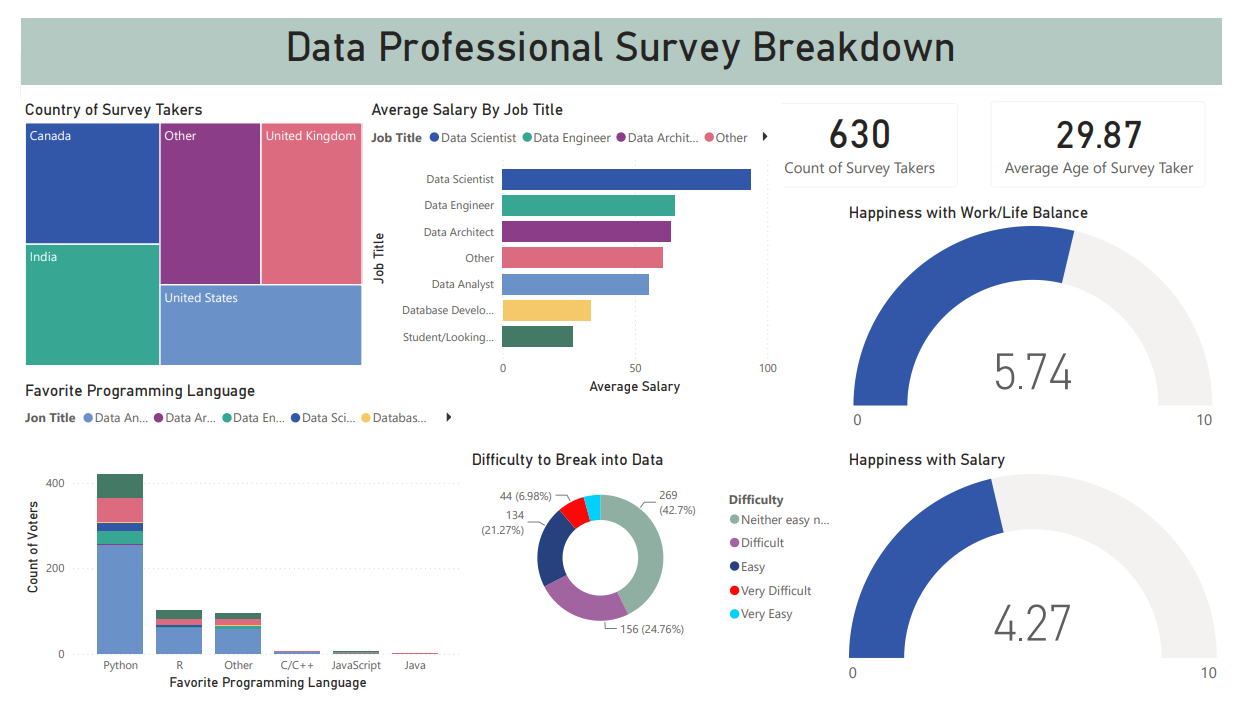

The dashboard page shown, as its layout file describes it:
{"tool":"powerbi","page":{"name":"Page 1","canvas":[1280,720],"ordinal":0},"visuals":[{"type":"textbox","box":[0,0,1280.3,71.4],"z":0},{"type":"cardVisual","fields":{"Data":["Count(Data Professional Survey.Unique ID)"]},"box":[771.2,72.7,245.6,124.9],"z":1},{"type":"cardVisual","fields":{"Data":["Avg(Data Professional Survey.Q10 - Current Age)"]},"box":[1016.8,71.4,263.5,126.2],"z":2},{"type":"barChart","title":"Average Salary By Job Title","fields":{"Category":["Data Professional Survey.Q1 - Which Title Best Fits your Current Role?.1"],"Y":["Avg(Data Professional Survey.Average Salary)"],"Series":["Data Professional Survey.Q1 - Which Title Best Fits your Current Role?.1"]},"box":[368.6,86.5,442.3,317.3],"z":3},{"type":"columnChart","title":"Favorite Programming Language","fields":{"Category":["Data Professional Survey.Q5 - Favorite Programming Language.1"],"Y":["CountNonNull(Data Professional Survey.Unique ID)"],"Series":["Data Professional Survey.Q1 - Which Title Best Fits your Current Role?.1"]},"box":[0,385.7,475.7,334.3],"z":4},{"type":"treemap","title":"Country of Survey Takers","fields":{"Group":["Data Professional Survey.Q11 - Which Country do you live in?.1"],"Values":["Count(Data Professional Survey.Q11 - Which Country do you live in?.1)"]},"box":[0,86.5,368.6,288.4],"z":5},{"type":"gauge","title":"Happiness with Work/Life Balance","fields":{"Y":["Avg(Data Professional Survey.Q6 - How Happy are you in your Current Position with the following? (Work/Life Balance))"],"MinValue":["Min(Data Professional Survey.Q6 - How Happy are you in your Current Position with the following? (Work/Life Balance))1"],"MaxValue":["Max(Data Professional Survey.Q6 - How Happy are you in your Current Position with the following? (Work/Life Balance))2"]},"box":[878.1,197.1,402.2,251.6],"z":6},{"type":"gauge","title":"Happiness with Salary","fields":{"Y":["Avg(Data Professional Survey.Q6 - How Happy are you in your Current Position with the following? (Salary))"],"MinValue":["Min(Data Professional Survey.Q6 - How Happy are you in your Current Position with the following? (Salary))"],"MaxValue":["Max(Data Professional Survey.Q6 - How Happy are you in your Current Position with the following? (Salary))"]},"box":[878.1,459.9,402.2,259.6],"z":7},{"type":"donutChart","title":"Difficulty to Break into Data","fields":{"Category":["Data Professional Survey.Q7 - How difficult was it for you to break into Data?"],"Y":["CountNonNull(Data Professional Survey.Q7 - How difficult was it for you to break into Data?)"]},"box":[475.9,459.9,402.2,209.9],"z":8}]}

Visuals, with their boxes in screenshot pixels (x1, y1, x2, y2), scaled from the page's 1280x720 canvas onto the 1241x713 screenshot:
textbox: (0,0,1240,71)
cardVisual - Count(Data Professional Survey.Unique ID): (748,72,986,196)
cardVisual - Avg(Data Professional Survey.Q10 - Current Age): (986,71,1240,196)
"Average Salary By Job Title" barChart: (357,86,786,400)
"Favorite Programming Language" columnChart: (0,382,461,712)
"Country of Survey Takers" treemap: (0,86,357,371)
"Happiness with Work/Life Balance" gauge: (851,195,1240,444)
"Happiness with Salary" gauge: (851,455,1240,712)
"Difficulty to Break into Data" donutChart: (461,455,851,663)
